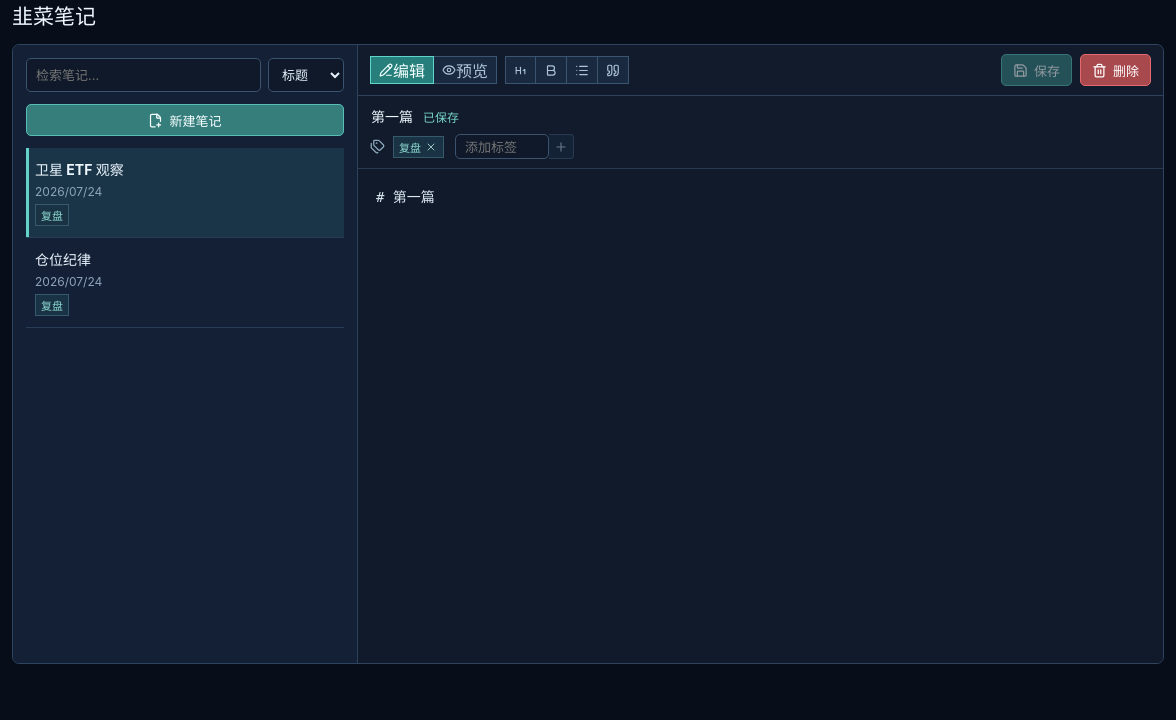
Test case: LeekNotesView › filters the note index by title
Type "卫星" into the field with placeholder "检索笔记..." at (144, 75), box [26,58,261,92]
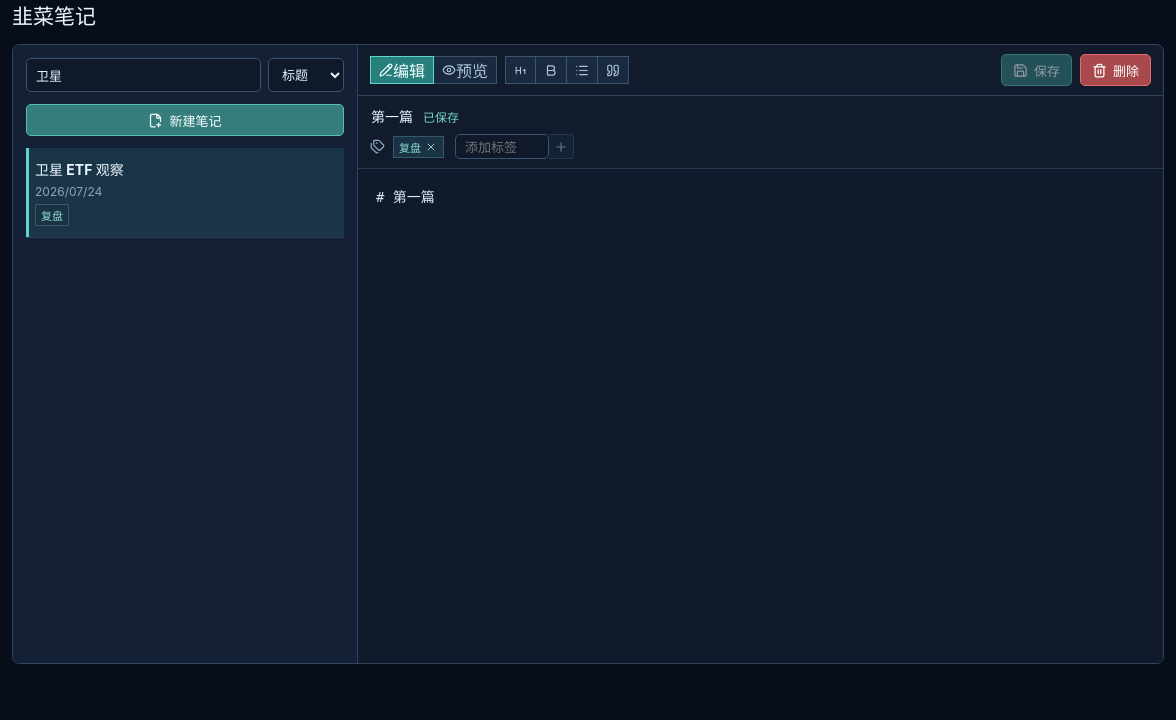
Expected: the text "卫星 ETF 观察" is shown, [35,161,124,178]
Expected: the text "仓位纪律" is gone
